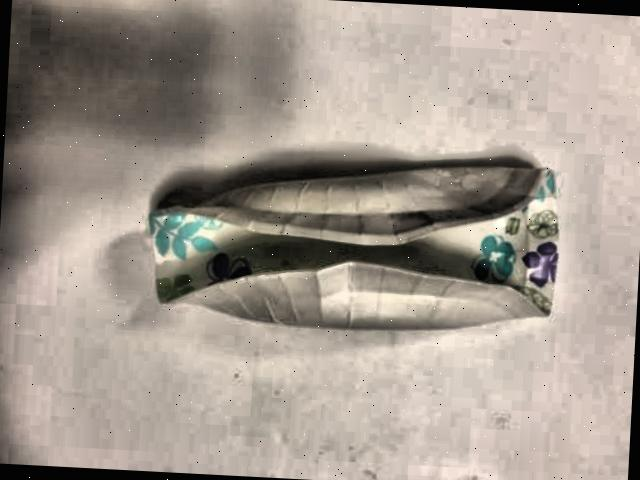Paper: (126, 119, 572, 360)
